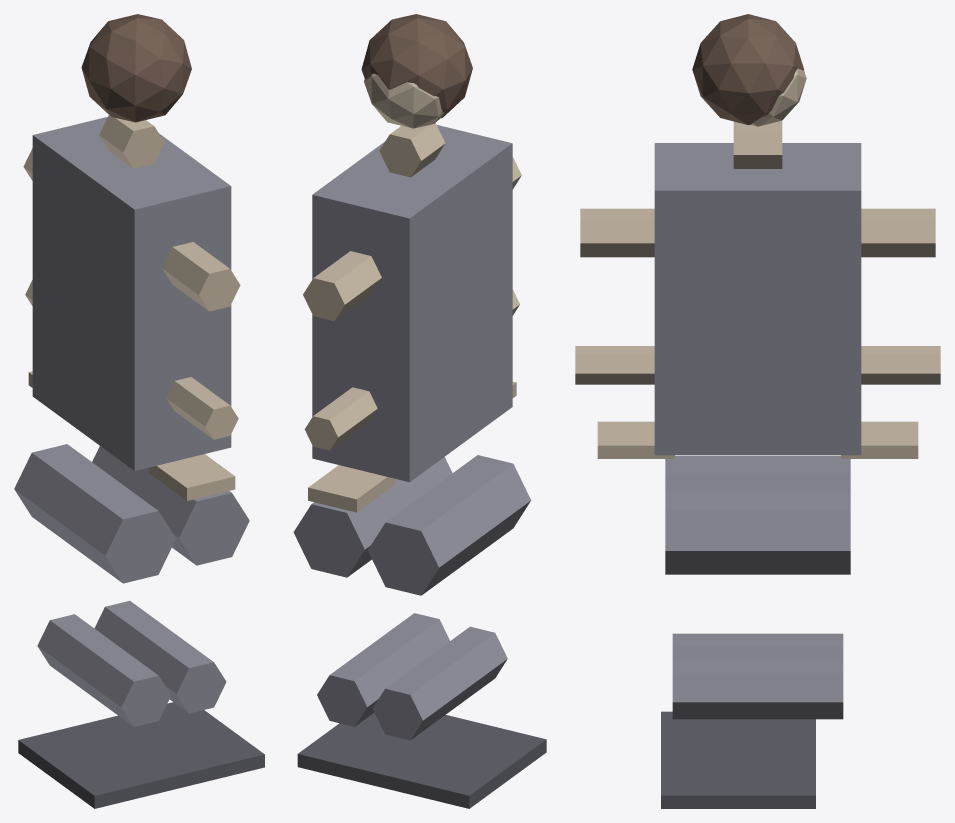
The model's file is personaje.base.cuerpo_comun_articulado.glb.
The picture shows the model from 3 angles, left to right: view 1: azimuth 30°, elevation 25°; view 2: azimuth 150°, elevation 25°; view 3: azimuth 270°, elevation 25°; orthographic projection.
Parts seen in each view (by area): view 1: torso, muslo_izq, cabello, pie_izq, pierna_izq, pie_der, pierna_der, muslo_der, brazo_der, antebrazo_der, mano_der, cuello; view 2: torso, muslo_izq, pie_izq, pierna_izq, cabello, pierna_der, muslo_der, pie_der, brazo_izq, cabeza, antebrazo_izq, mano_izq (+1 smaller); view 3: torso, muslo_der, pierna_der, pie_der, cabello, muslo_izq, pie_izq, pierna_izq, brazo_izq, brazo_der, antebrazo_izq, antebrazo_der (+4 smaller).
Part boxes in pixels (bbox=[...]): torso: bbox=[32, 117, 231, 470]; muslo_izq: bbox=[14, 444, 175, 583]; cabello: bbox=[81, 14, 191, 122]; pie_izq: bbox=[18, 722, 191, 808]; pierna_izq: bbox=[37, 614, 171, 726]; pie_der: bbox=[92, 702, 264, 785]; pierna_der: bbox=[94, 600, 226, 713]; muslo_der: bbox=[92, 446, 249, 565]; brazo_der: bbox=[162, 242, 240, 311]; antebrazo_der: bbox=[166, 377, 238, 439]; mano_der: bbox=[148, 454, 235, 500]; cuello: bbox=[99, 115, 164, 168]; torso: bbox=[312, 125, 512, 482]; muslo_izq: bbox=[368, 455, 531, 595]; pie_izq: bbox=[372, 715, 546, 808]; pierna_izq: bbox=[372, 626, 507, 740]; cabello: bbox=[361, 14, 472, 118]; pierna_der: bbox=[317, 613, 449, 726]; muslo_der: bbox=[293, 457, 452, 577]; pie_der: bbox=[297, 712, 463, 789]; brazo_izq: bbox=[303, 251, 381, 321]; cabeza: bbox=[364, 73, 443, 128]; antebrazo_izq: bbox=[304, 387, 377, 450]; mano_izq: bbox=[308, 465, 395, 512]; torso: bbox=[654, 143, 861, 455]; muslo_der: bbox=[665, 492, 850, 574]; pierna_der: bbox=[672, 661, 843, 719]; pie_der: bbox=[661, 748, 815, 808]; cabello: bbox=[692, 14, 804, 125]; muslo_izq: bbox=[665, 456, 850, 492]; pie_izq: bbox=[661, 711, 815, 759]; pierna_izq: bbox=[672, 633, 843, 660]; brazo_izq: bbox=[861, 208, 935, 257]; brazo_der: bbox=[580, 208, 654, 257]; antebrazo_izq: bbox=[861, 346, 940, 384]; antebrazo_der: bbox=[575, 346, 654, 384].
Size of the model in its own units: 0.4087 by 1.7 by 0.75.
